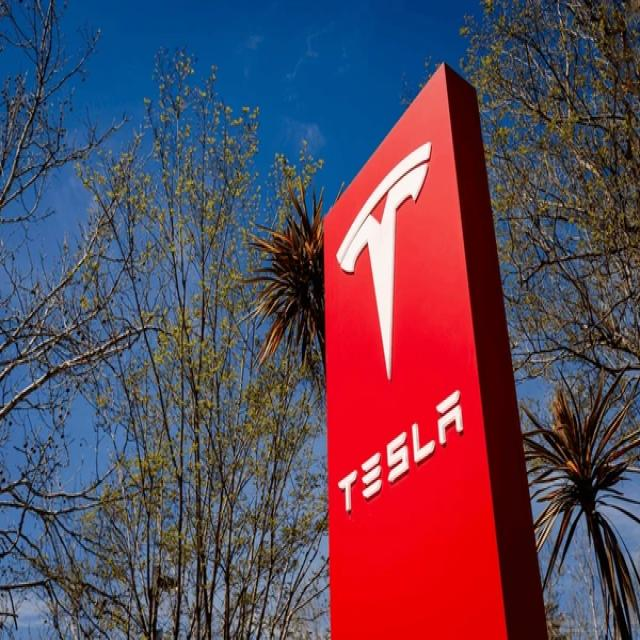tesla: (336, 141, 433, 383)
